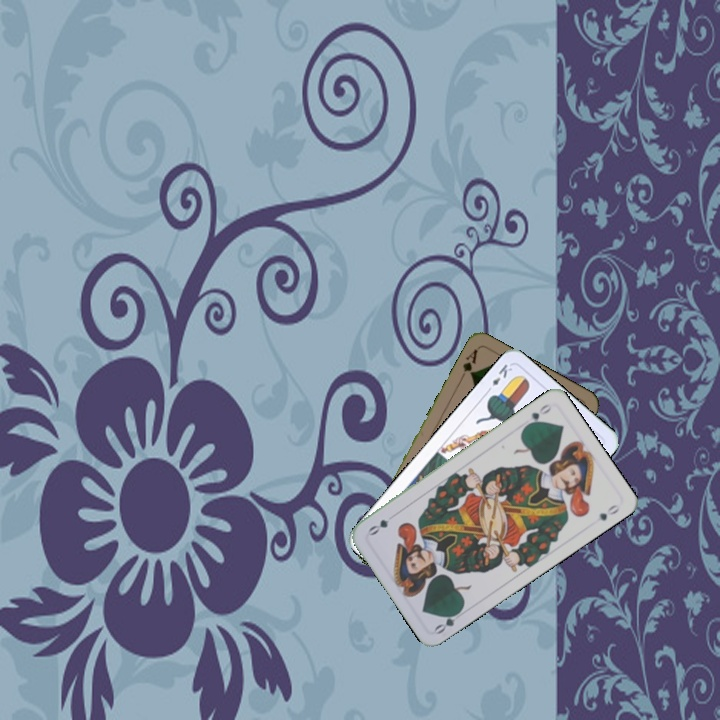EK: (482, 360, 515, 396)
GA: (457, 345, 480, 383)
GO: (431, 605, 467, 637), (520, 400, 554, 430)
